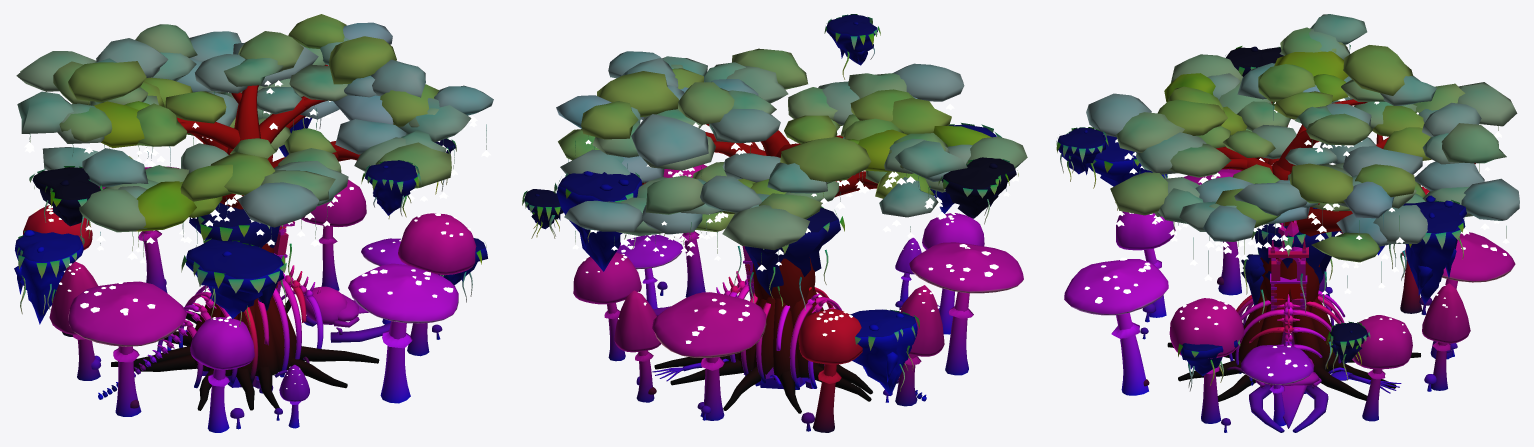
File: wonders.glb
3 views of the same model, side by side, from view 1: azimuth 30°, elevation 25°; view 2: azimuth 150°, elevation 25°; view 3: azimuth 270°, elevation 25° (orthographic). The views are drawn at different scales.
Visible parts, largest first — view 1: MoonTree, MushroomRing, WhaleSkeleton, FloatingRock_4, FloatingRock_1, FloatingRock_6, FloatingRock_0, FloatingRock_5, BellTower, FloatingRock_3; view 2: MoonTree, MushroomRing, FloatingRock_1, FloatingRock_2, FloatingRock_0, WhaleSkeleton, FloatingRock_6, FloatingRock_5, FloatingRock_7, BellTower, FloatingRock_4; view 3: MoonTree, MushroomRing, WhaleSkeleton, FloatingRock_2, FloatingRock_0, BellTower, FloatingRock_5, FloatingRock_4, FloatingRock_7, FloatingRock_3, FloatingRock_6.
Boxes of the visible parts, left/top/right/bottom form: MoonTree: left=16, top=14, right=493, bottom=410; MushroomRing: left=23, top=166, right=476, bottom=432; WhaleSkeleton: left=98, top=265, right=390, bottom=399; FloatingRock_4: left=181, top=238, right=286, bottom=326; FloatingRock_1: left=14, top=230, right=84, bottom=324; FloatingRock_6: left=29, top=166, right=102, bottom=240; FloatingRock_0: left=189, top=202, right=291, bottom=310; FloatingRock_5: left=361, top=160, right=421, bottom=218; BellTower: left=202, top=221, right=294, bottom=393; FloatingRock_3: left=438, top=238, right=487, bottom=302; MoonTree: left=556, top=48, right=1027, bottom=413; MushroomRing: left=573, top=164, right=1023, bottom=432; FloatingRock_1: left=850, top=309, right=919, bottom=395; FloatingRock_2: left=554, top=171, right=644, bottom=271; FloatingRock_0: left=734, top=206, right=844, bottom=311; WhaleSkeleton: left=652, top=271, right=926, bottom=401; FloatingRock_6: left=938, top=157, right=1018, bottom=224; FloatingRock_5: left=824, top=14, right=880, bottom=79; FloatingRock_7: left=522, top=189, right=565, bottom=238; BellTower: left=742, top=246, right=812, bottom=389; FloatingRock_4: left=930, top=123, right=1001, bottom=213; MoonTree: left=1086, top=14, right=1519, bottom=401; MushroomRing: left=1064, top=169, right=1515, bottom=432; WhaleSkeleton: left=1221, top=290, right=1401, bottom=432; FloatingRock_2: left=1389, top=195, right=1466, bottom=304; FloatingRock_0: left=1241, top=207, right=1342, bottom=333; BellTower: left=1268, top=220, right=1329, bottom=393; FloatingRock_5: left=1056, top=127, right=1108, bottom=188; FloatingRock_4: left=1089, top=135, right=1167, bottom=210; FloatingRock_7: left=1325, top=321, right=1370, bottom=380; FloatingRock_3: left=1177, top=340, right=1240, bottom=391; FloatingRock_6: left=1225, top=46, right=1283, bottom=76.
Size of the model in its own units: 72.44 by 47.02 by 67.52.
